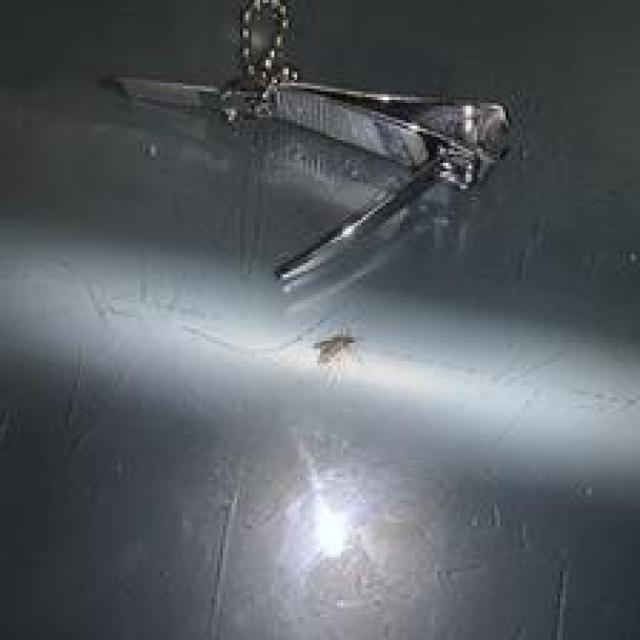Culex: (98, 0, 513, 300)
